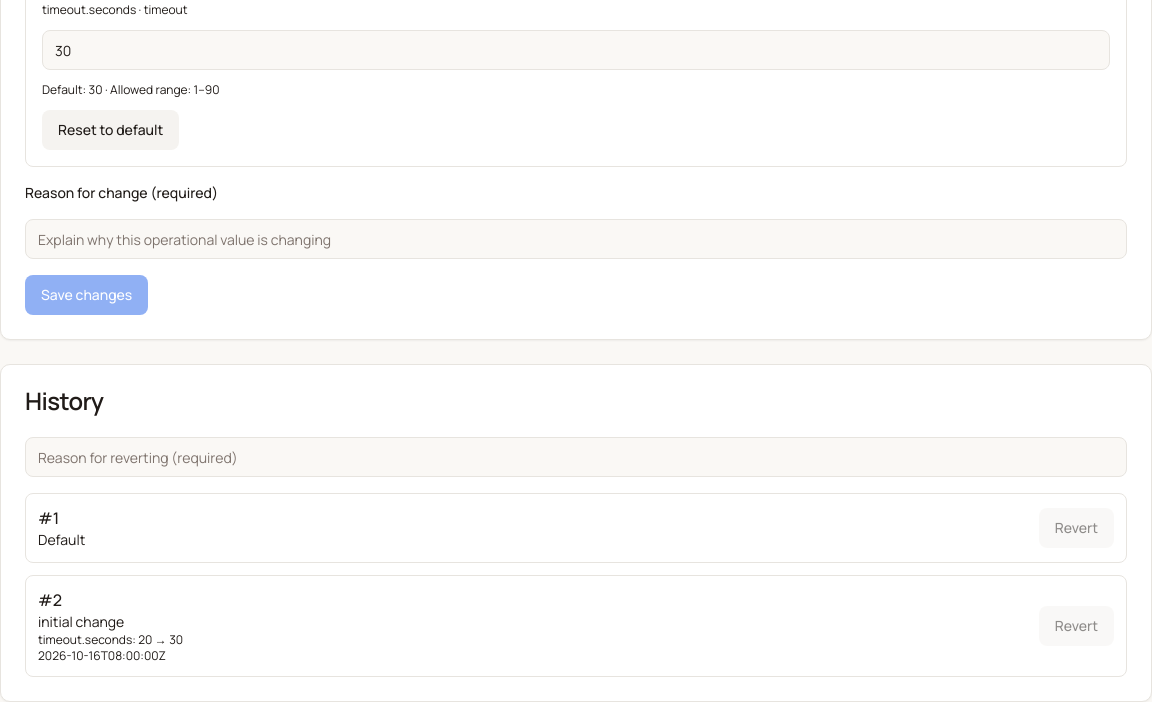
it: runtime settings control › opens a controlled revert confirmation and does not write on cancel
(page scrolled)
Expected: the text "#2" is shown, [38, 589, 62, 611]
Expected: the text "#1" is shown, [38, 507, 59, 529]
Type "restore" into the field labelled "Reason for reverting (required)".
click(576, 457); type("restore")  # box [25, 437, 1127, 477]
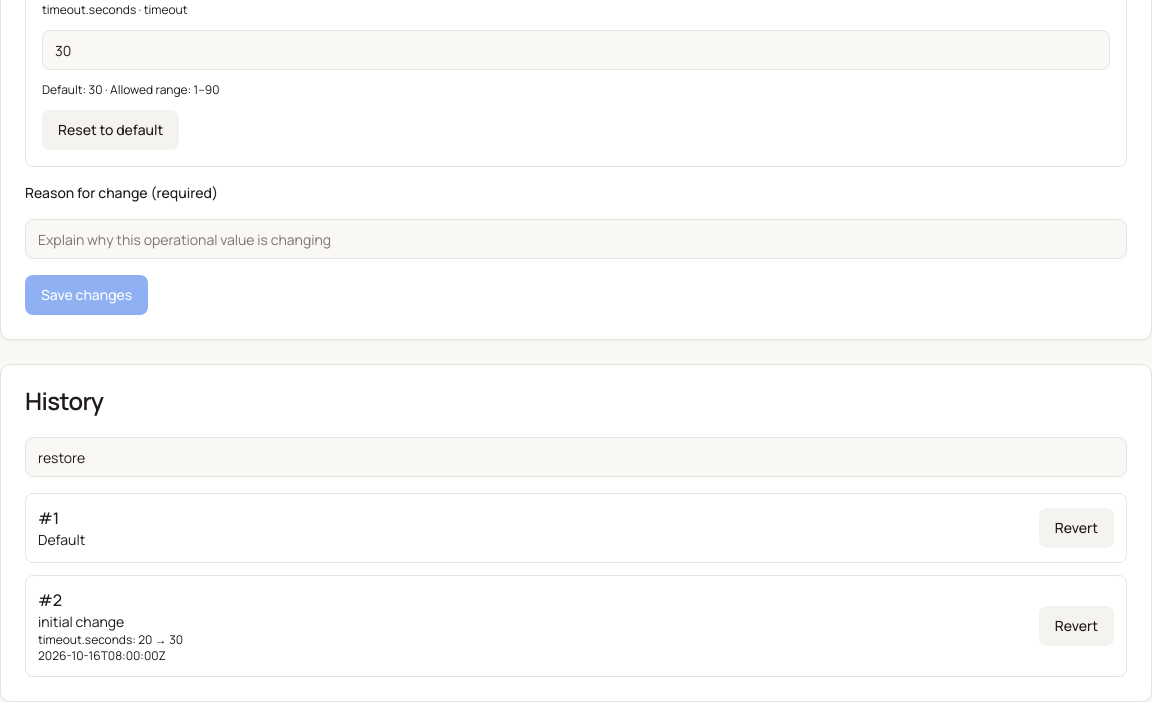
Click the 1st button "Revert".
click(1076, 528)  # box [1039, 508, 1114, 548]
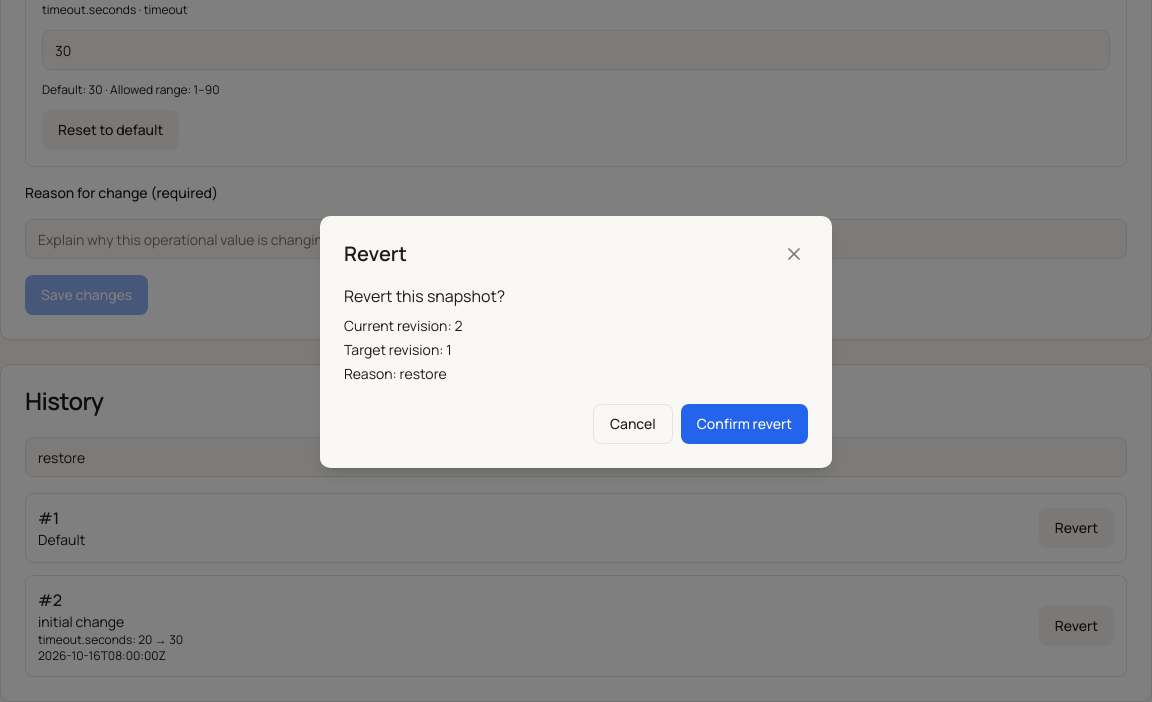
Now the dialog shows "Revert this snapshot?", box [344, 285, 505, 307]
Click the button "Cancel".
click(633, 424)  # box [593, 404, 673, 444]
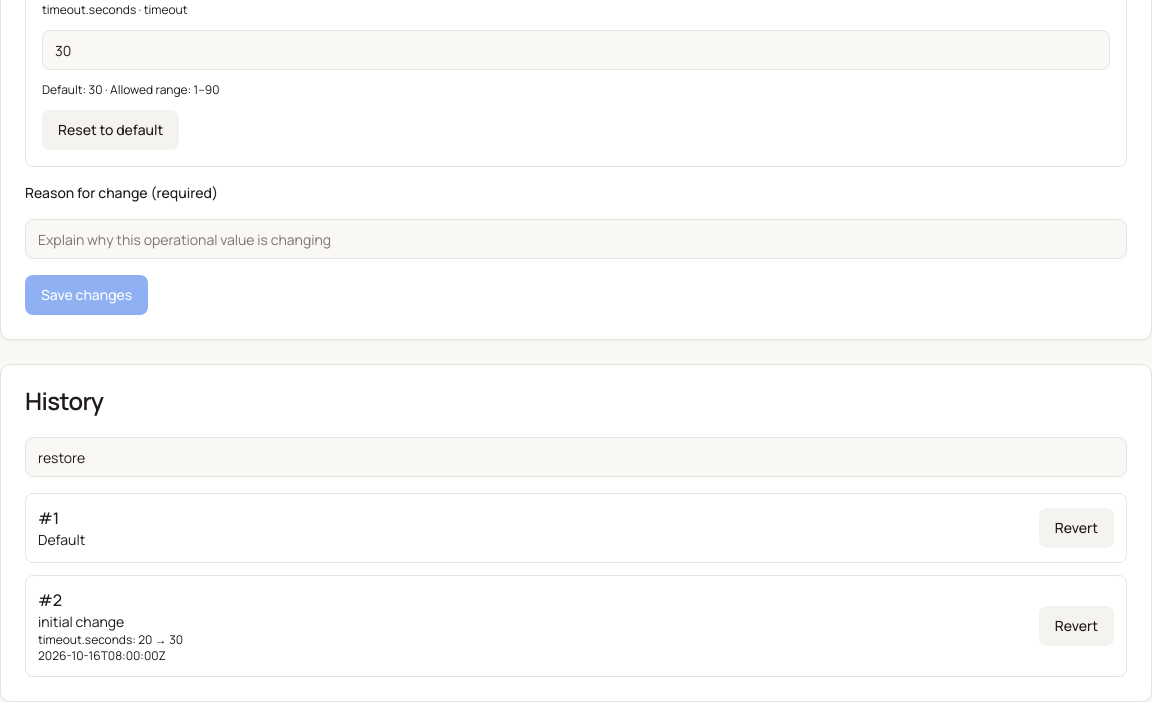
Now the dialog is gone
